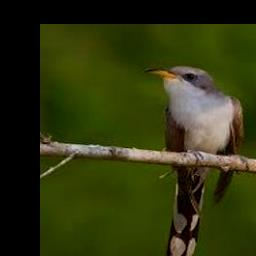Cuckoo: (144, 65, 244, 256)
